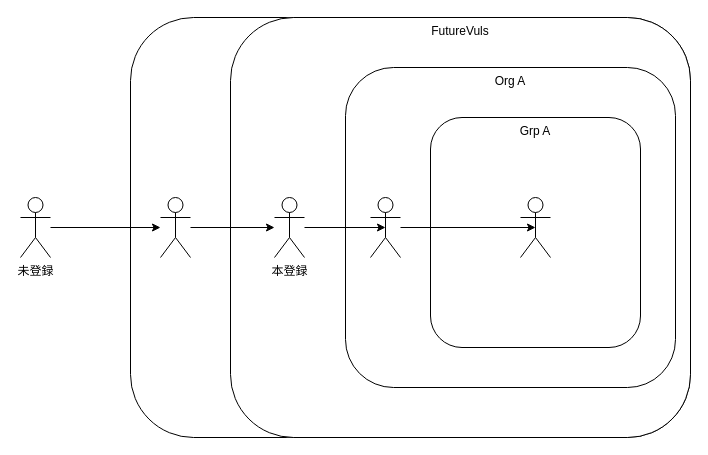
Some shapes in this 708 by 455 pixel diagram are drawn without their labels. Here are the shapes that lost their labels. From the top down, the box of each, then its label:
(160, 196, 190, 258): 仮登録
(370, 196, 400, 258): OrgA所属
(520, 196, 550, 258): OrgA/GrpA所属
